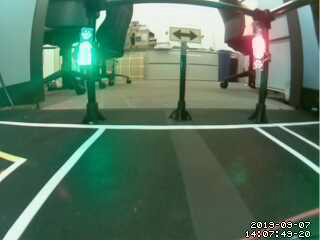Left_Right_sign: (170, 27, 201, 43)
Traffic_light_green: (81, 30, 93, 68)
Traffic_light_red: (252, 35, 267, 65)
